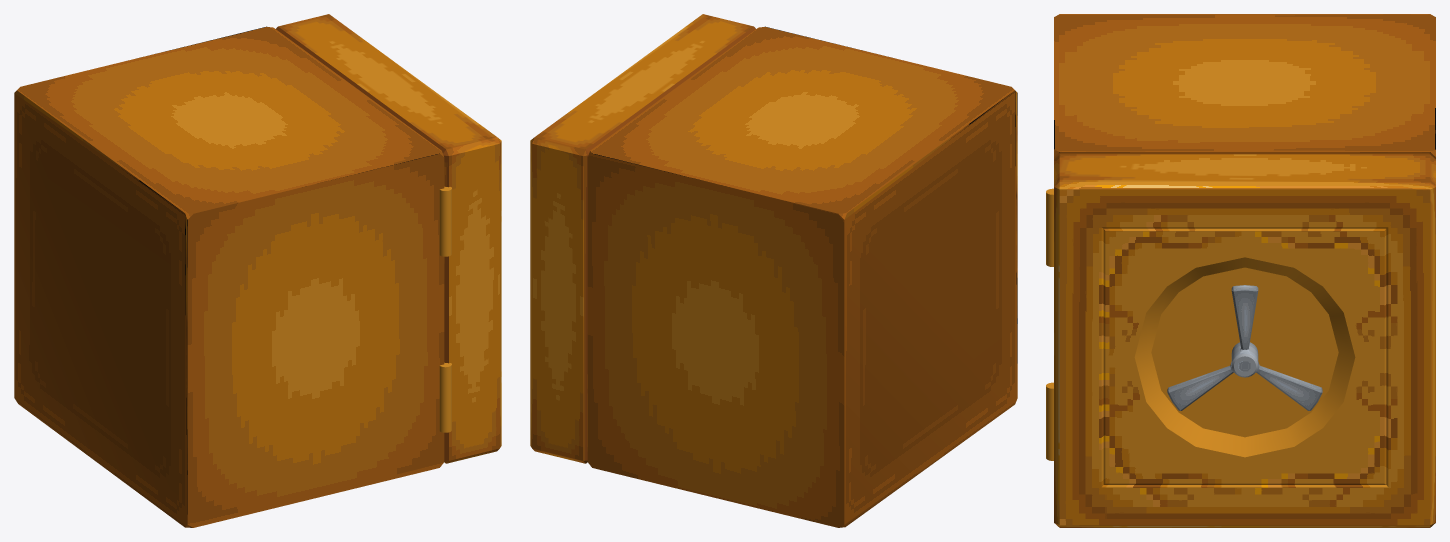
Rendered from Chamber.glb.
The picture shows the model from 3 angles, left to right: view 1: azimuth 30°, elevation 25°; view 2: azimuth 150°, elevation 25°; view 3: azimuth 270°, elevation 25°; orthographic projection. The views are drawn at different scales.
Parts seen in each view (by area): view 1: Cube, Cube.001, Cylinder, Cylinder.001; view 2: Cube, Cube.001; view 3: Cube.001, Cube, Cylinder.002, Cylinder, Cylinder.001.
Boxes of the visible parts, x1,y1,x2,y2 form: Cube: (14,26,444,527); Cube.001: (276,14,501,463); Cylinder: (439,186,451,256); Cylinder.001: (439,362,451,432); Cube: (587,26,1017,527); Cube.001: (530,14,755,463); Cube.001: (1054,154,1435,527); Cube: (1054,14,1435,159); Cylinder.002: (1167,285,1322,410); Cylinder: (1046,188,1053,266); Cylinder.001: (1046,382,1053,460).
Size of the model in its own units: 2.22 by 2 by 2.04.
Materials: 5 (5 with a texture image).
